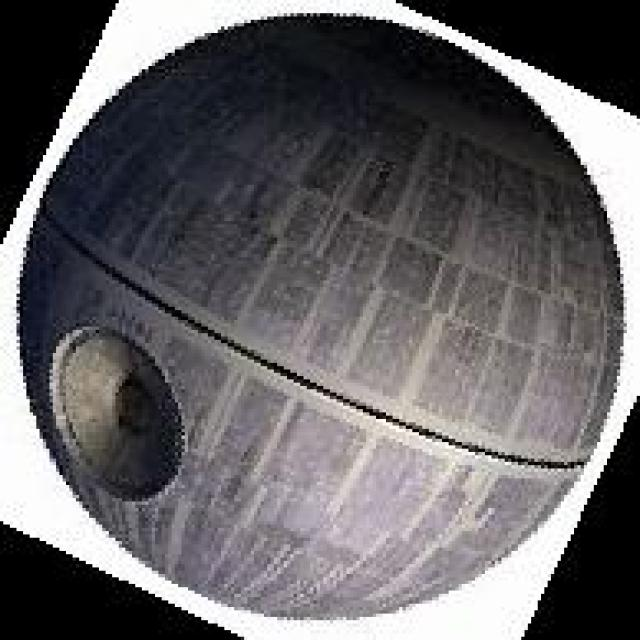Death Star: (33, 14, 604, 608)
